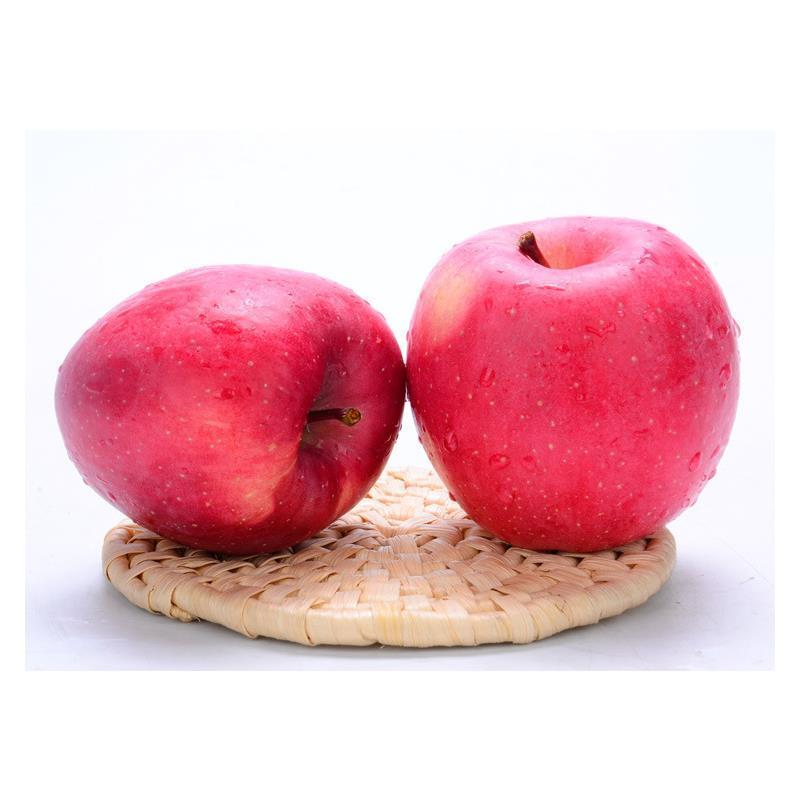apple: (411, 216, 750, 545), (53, 272, 409, 560)
